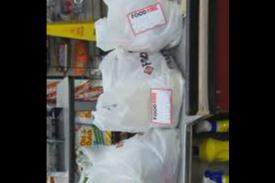Plastic: (88, 52, 187, 134), (73, 129, 183, 182)
